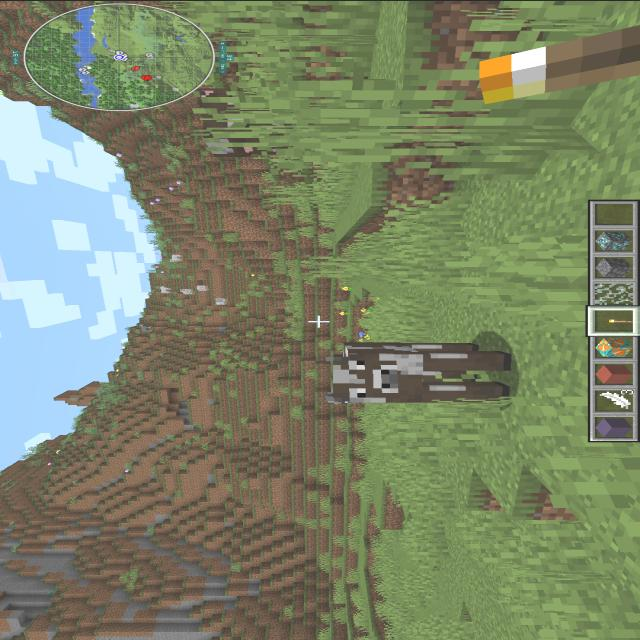cow: (310, 324, 526, 416), (184, 70, 302, 168)
